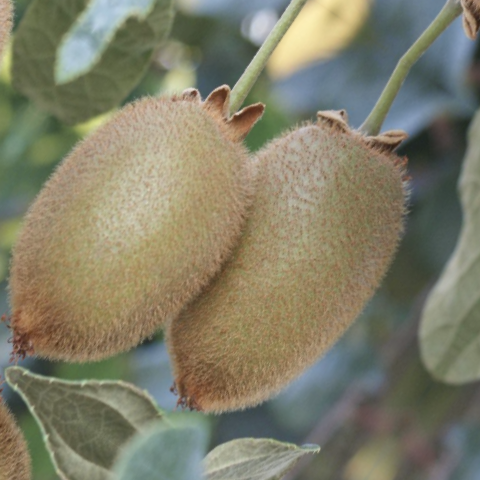kiwi: (104, 70, 469, 468), (0, 22, 316, 425)
